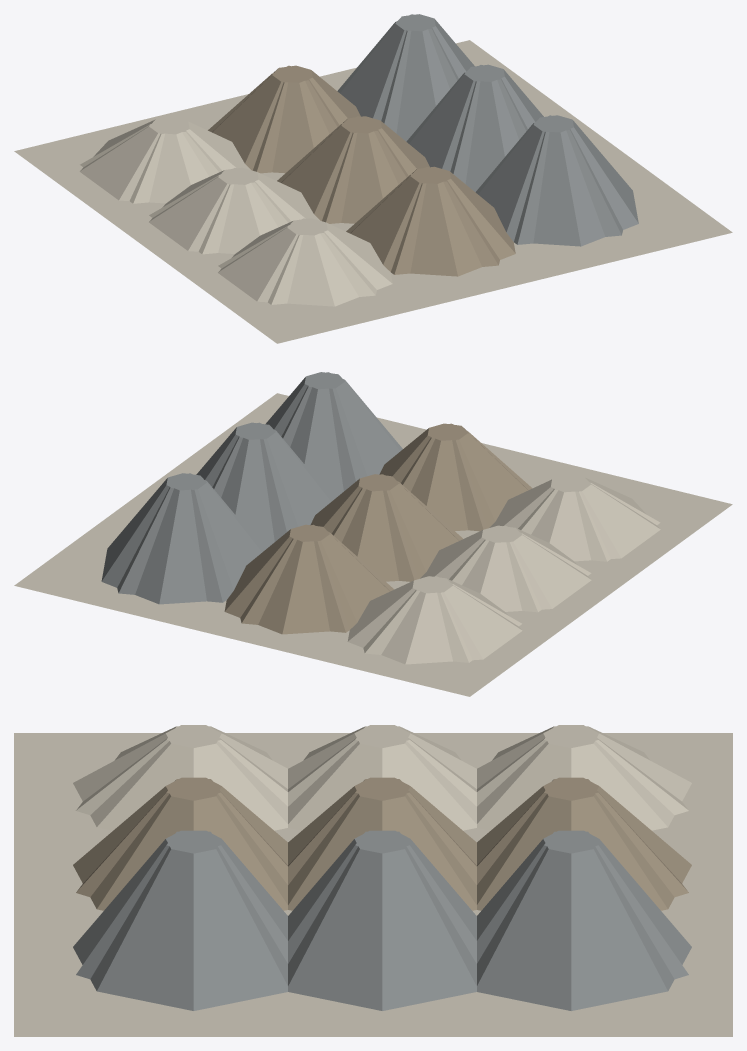
The picture shows the model from 3 angles, top to bottom: view 1: azimuth 30°, elevation 25°; view 2: azimuth 150°, elevation 25°; view 3: azimuth 270°, elevation 25°; orthographic projection. The views are drawn at different scales.
Visible parts, largest first — view 1: Near, Far; view 2: Near, Far; view 3: Near, Far.
Boxes of the visible parts, x1,y1,x2,y2 form: Near: (14,14,732,343); Far: (80,14,622,304); Near: (14,372,732,696); Far: (117,372,660,662); Near: (14,725,732,1036); Far: (76,726,688,979).
Bounding box in the file's own units: 4 × 0.738 × 4.
